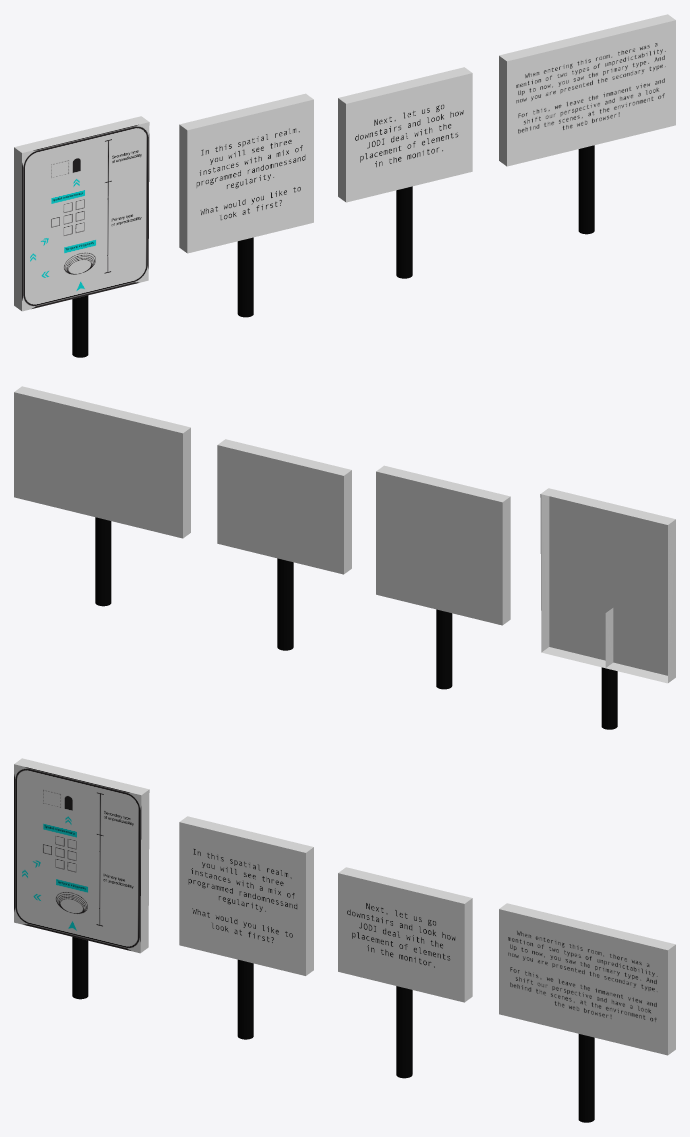
File: TRAFFIC_SIGNS.fbx
The picture shows the model from 3 angles, top to bottom: view 1: azimuth 30°, elevation 25°; view 2: azimuth 150°, elevation 25°; view 3: azimuth 330°, elevation 25°; orthographic projection.
Visible parts, largest first — view 1: SIGN2, SIGN5, SIGN3, SIGN4; view 2: SIGN2, SIGN5, SIGN3, SIGN4; view 3: SIGN2, SIGN5, SIGN3, SIGN4.
Boxes of the visible parts, left/top/right/bottom form: SIGN2: left=14, top=116, right=149, bottom=357; SIGN5: left=499, top=14, right=675, bottom=234; SIGN3: left=179, top=93, right=313, bottom=317; SIGN4: left=338, top=67, right=472, bottom=278; SIGN2: left=540, top=488, right=675, bottom=729; SIGN5: left=14, top=386, right=190, bottom=606; SIGN3: left=376, top=465, right=510, bottom=689; SIGN4: left=217, top=439, right=351, bottom=650; SIGN2: left=14, top=758, right=149, bottom=999; SIGN5: left=499, top=903, right=675, bottom=1122; SIGN3: left=179, top=816, right=313, bottom=1039; SIGN4: left=338, top=867, right=472, bottom=1078.
Size of the model in its own units: 46.66 by 14.96 by 1.
